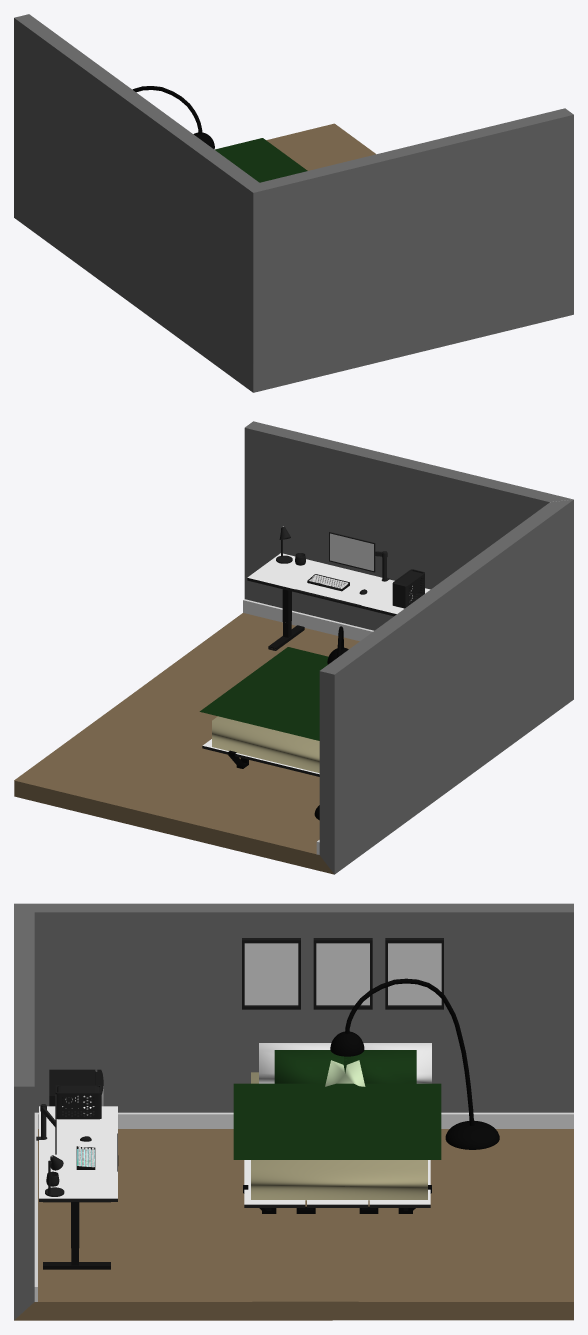
File: room.gltf
The picture shows the model from 3 angles, top to bottom: view 1: azimuth 30°, elevation 25°; view 2: azimuth 150°, elevation 25°; view 3: azimuth 270°, elevation 25°; orthographic projection. The views are drawn at different scales.
Visible parts, largest first — view 1: image-3, blanket; view 2: image-3, blanket, bed, bed frame; view 3: image-3, blanket, bed, bed frame.
Part boxes in pixels (left/top/right/bottom): image-3: left=14, top=14, right=573, bottom=392; blanket: left=215, top=138, right=307, bottom=182; image-3: left=14, top=421, right=573, bottom=874; blanket: left=199, top=647, right=328, bottom=740; bed: left=212, top=716, right=319, bottom=772; bed frame: left=202, top=739, right=319, bottom=776; image-3: left=14, top=903, right=573, bottom=1320; blanket: left=233, top=1083, right=441, bottom=1159; bed: left=251, top=1043, right=431, bottom=1200; bed frame: left=243, top=1160, right=431, bottom=1213.
Bounding box in the file's own units: 21.17 × 12.63 × 27.37.
